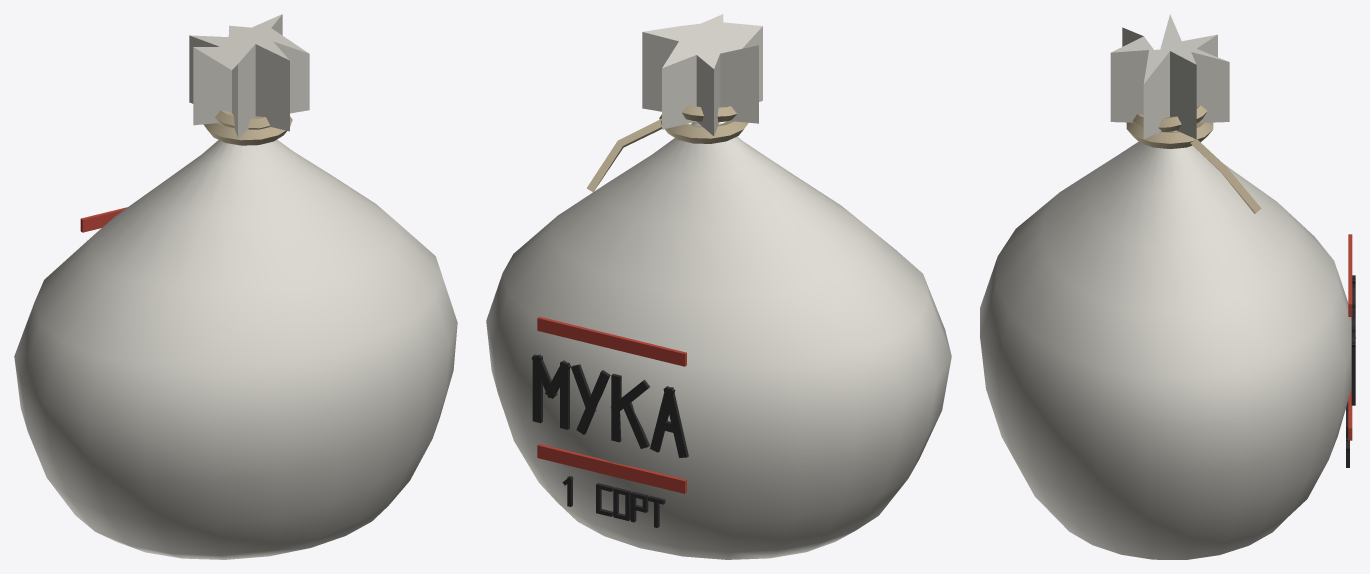
The model's file is flour_sack.glb.
3 views of the same model, side by side, from view 1: azimuth 30°, elevation 25°; view 2: azimuth 150°, elevation 25°; view 3: azimuth 270°, elevation 25° (orthographic). The views are drawn at different scales.
Parts seen in each view (by area): view 1: body; view 2: body; view 3: body.
Boxes of the visible parts, box(x1,y1,x2,y2) form: body: box(14, 14, 457, 559); body: box(486, 14, 951, 559); body: box(980, 14, 1355, 559).
Bounding box in the file's own units: 0.0949 × 0.1035 × 0.077.
